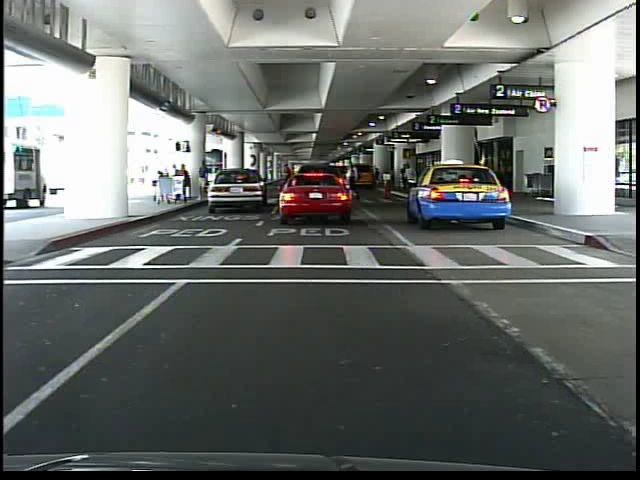person: (278, 160, 294, 205), (348, 159, 361, 201), (405, 164, 419, 199), (398, 160, 410, 195), (333, 168, 343, 201), (201, 161, 211, 193)
